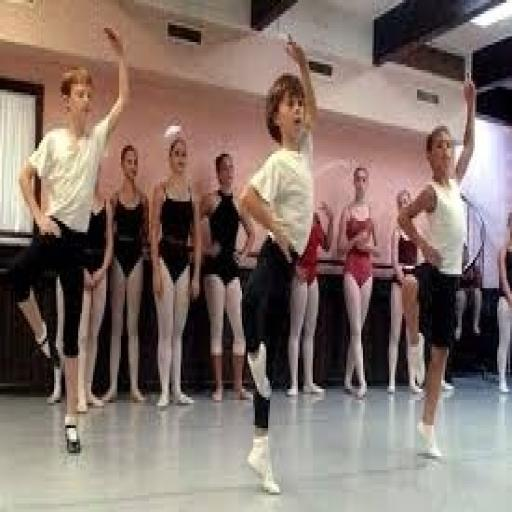dancing: (7, 22, 136, 456), (237, 31, 322, 498), (395, 72, 480, 462)
